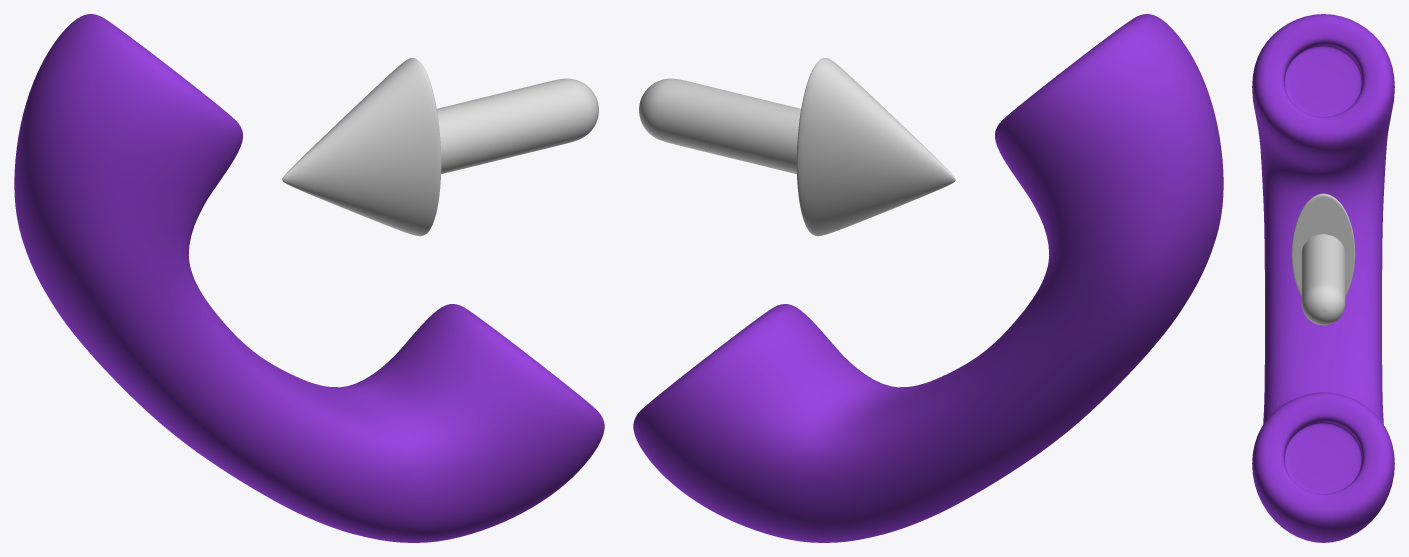
File: call-in.glb
3 renders of one model, left to right at view 1: azimuth 30°, elevation 25°; view 2: azimuth 150°, elevation 25°; view 3: azimuth 270°, elevation 25°, orthographic. The views are drawn at different scales.
Visible parts, largest first — view 1: Phone Income; view 2: Phone Income; view 3: Phone Income.
Boxes of the visible parts, x1,y1,x2,y2 form: Phone Income: (14,14,604,542); Phone Income: (633,14,1223,542); Phone Income: (1252,14,1394,542).
Bounding box in the file's own units: 1.79 × 1.77 × 0.5744.
